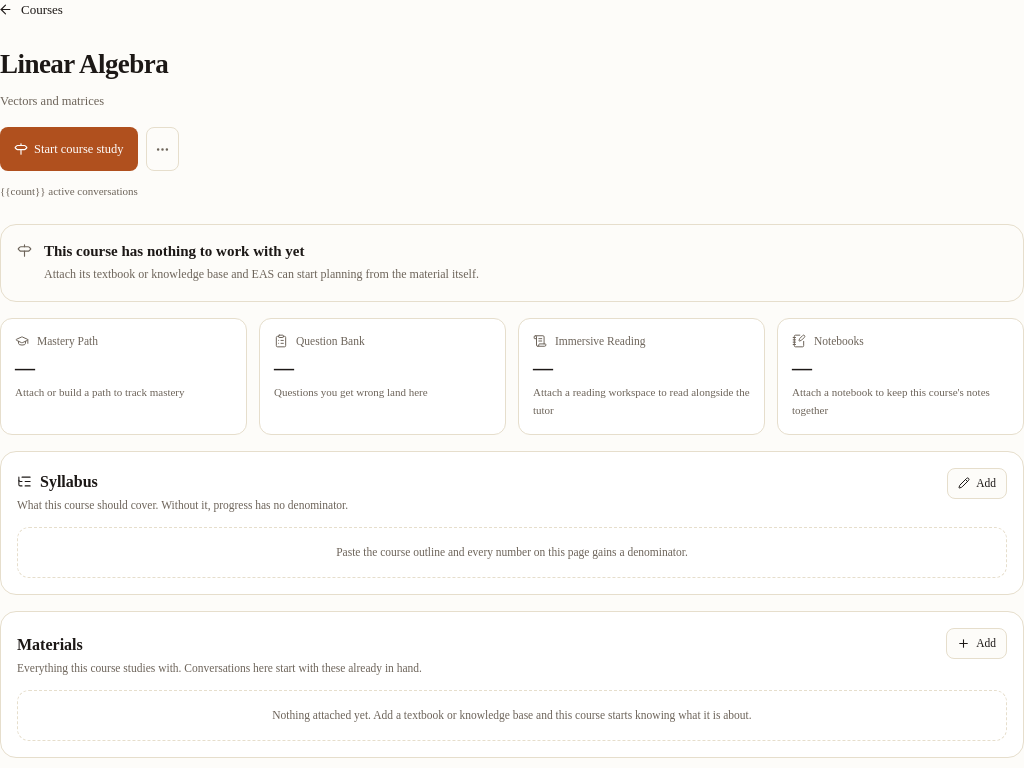
it: shows a visible error and stays on the course page when deletion fails
Expected: the heading "Linear Algebra" is shown, [0,44,168,85]
What coordinates should you click on to do the following:
click the button named "Course actions"
I would click on:
 (162, 149)
Its box is [146,127,179,171].
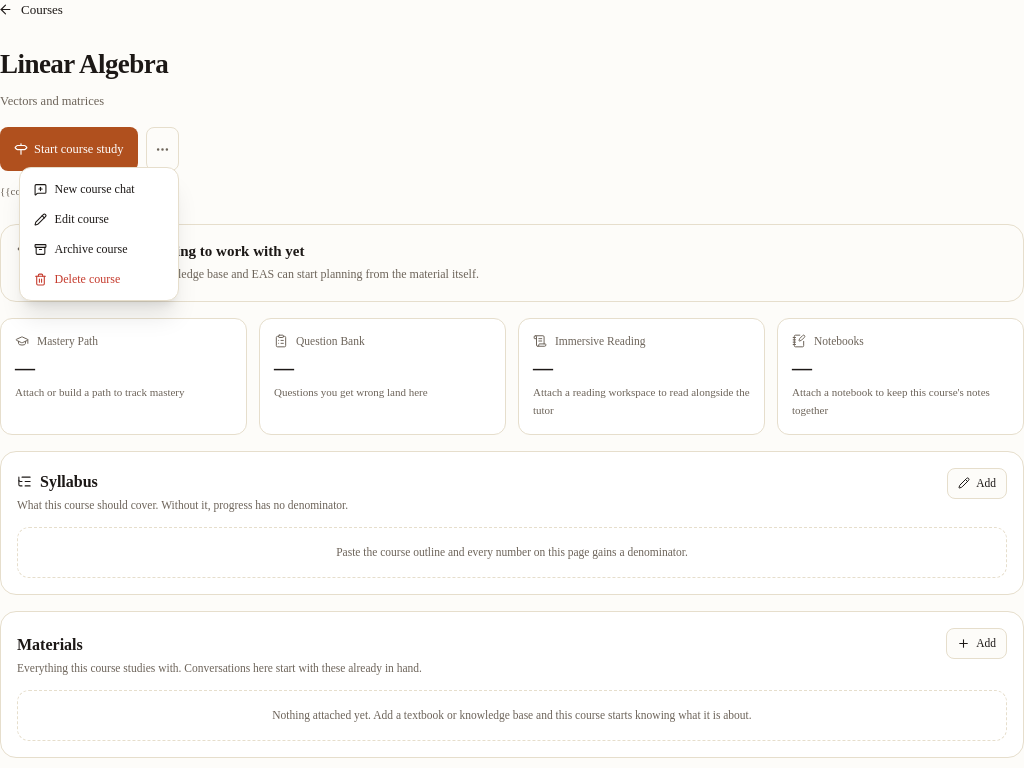
What coordinates should you click on to do the following:
click the button "Delete course"
I would click on:
 (99, 279)
Its box is [26,264,172,294].
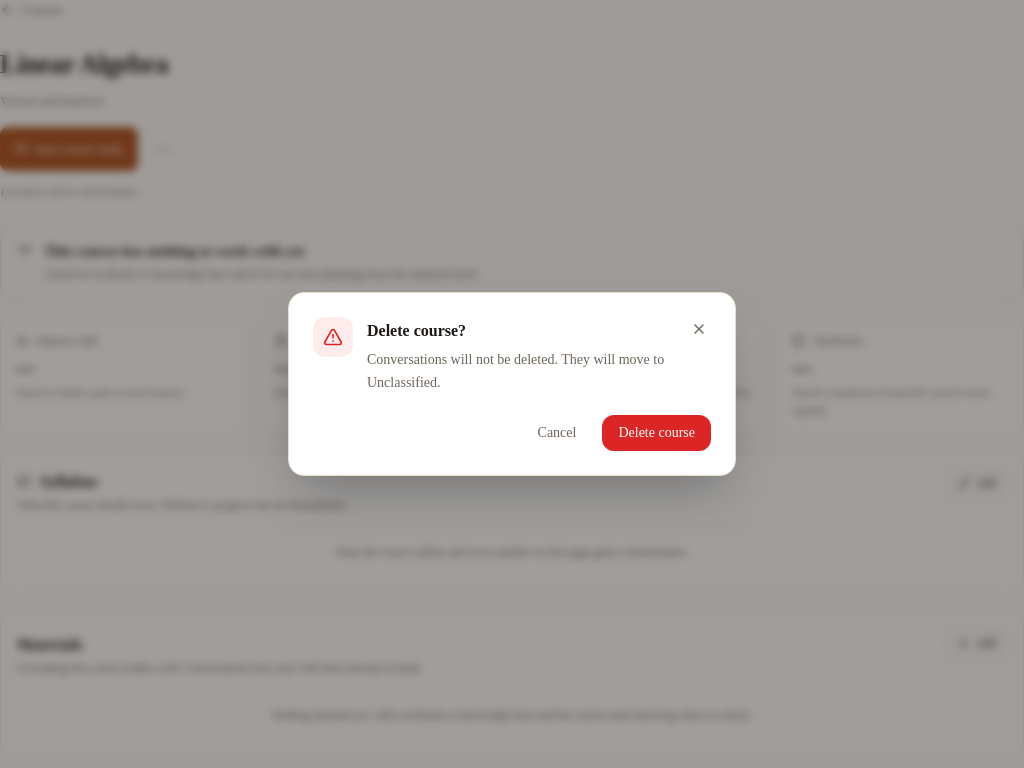
What coordinates should you click on to do the following:
click the button "Delete course"
I would click on:
 (657, 433)
Its box is [602,415,711,451].
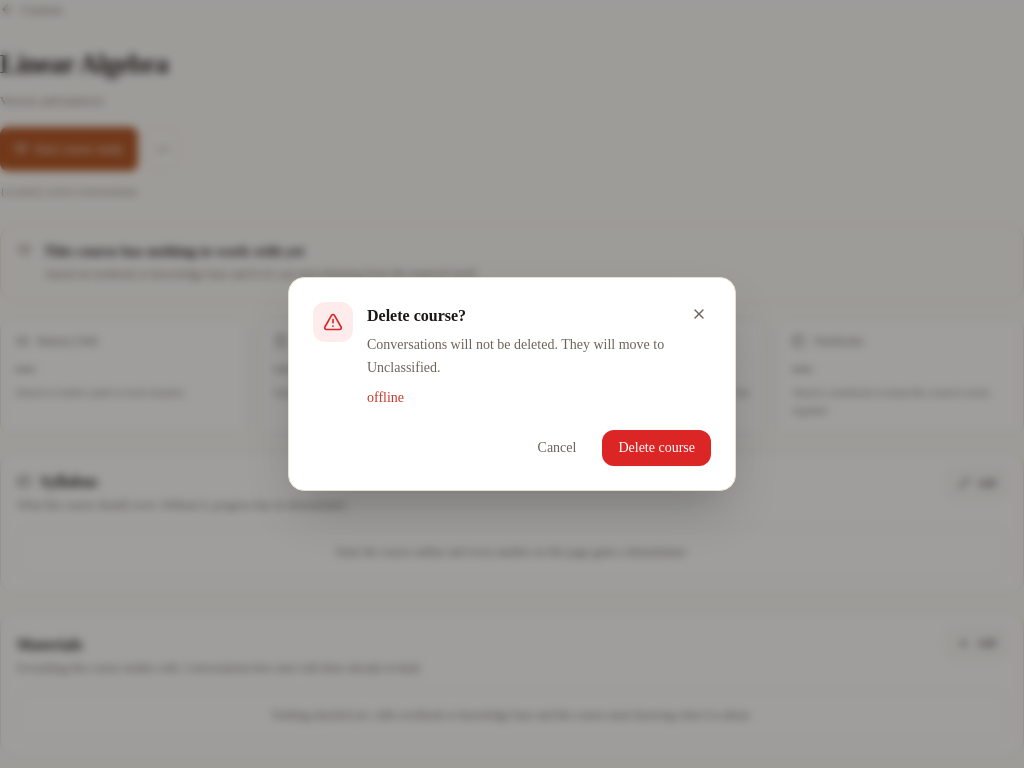
Result: the dialog is shown
Result: the message reads "offline" at [367,390,404,405]
